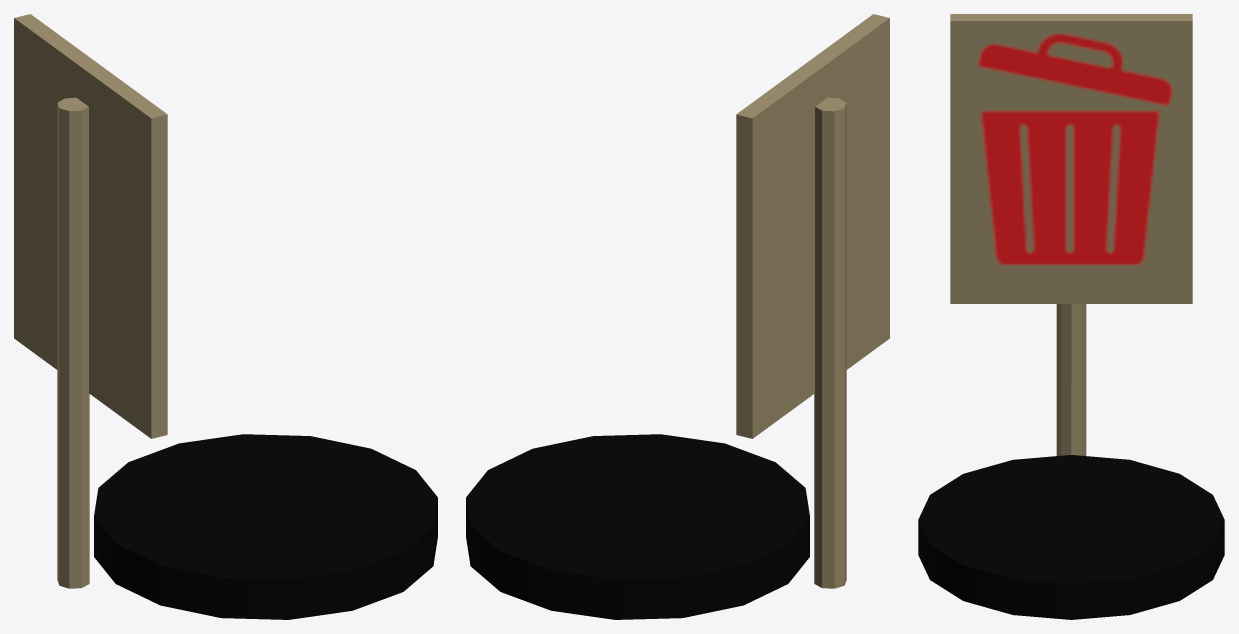
The model's file is kôš_tabuľa.fbx.
The picture shows the model from 3 angles, left to right: view 1: azimuth 30°, elevation 25°; view 2: azimuth 150°, elevation 25°; view 3: azimuth 270°, elevation 25°; orthographic projection. The views are drawn at different scales.
Parts seen in each view (by area): view 1: čierna_diera, koš; view 2: čierna_diera, koš; view 3: čierna_diera, koš.
Boxes of the visible parts, x1,y1,x2,y2 form: čierna_diera: (14, 14, 167, 588); koš: (94, 434, 437, 619); čierna_diera: (736, 14, 889, 588); koš: (466, 434, 809, 619); čierna_diera: (950, 14, 1192, 455); koš: (918, 455, 1224, 619).
Size of the model in its own units: 238 by 333 by 200.
Materials: 2 (1 with a texture image).
